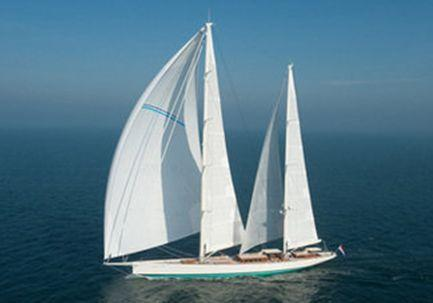fanchuan: (100, 4, 351, 278)
